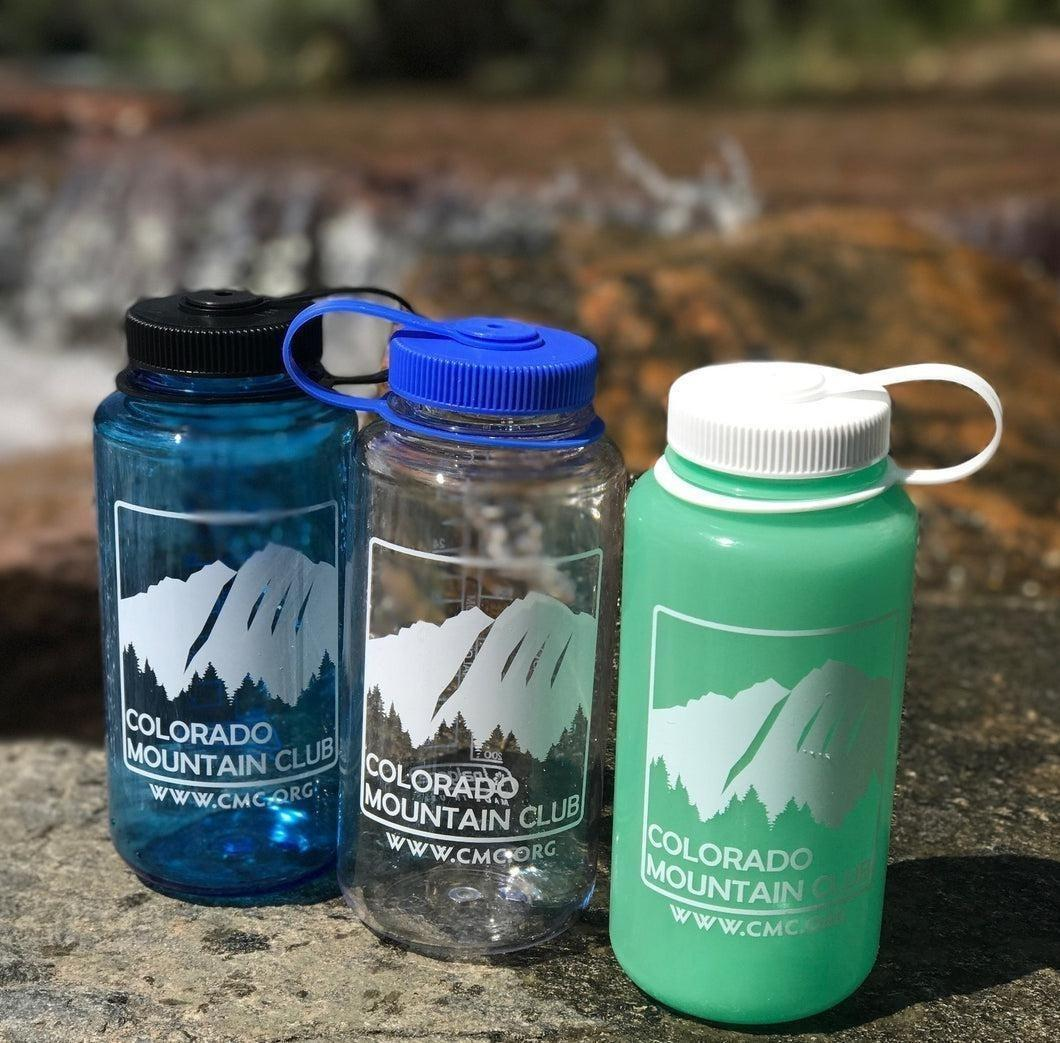gym bottle: (608, 353, 1004, 1030), (301, 302, 627, 965), (89, 283, 359, 909)
